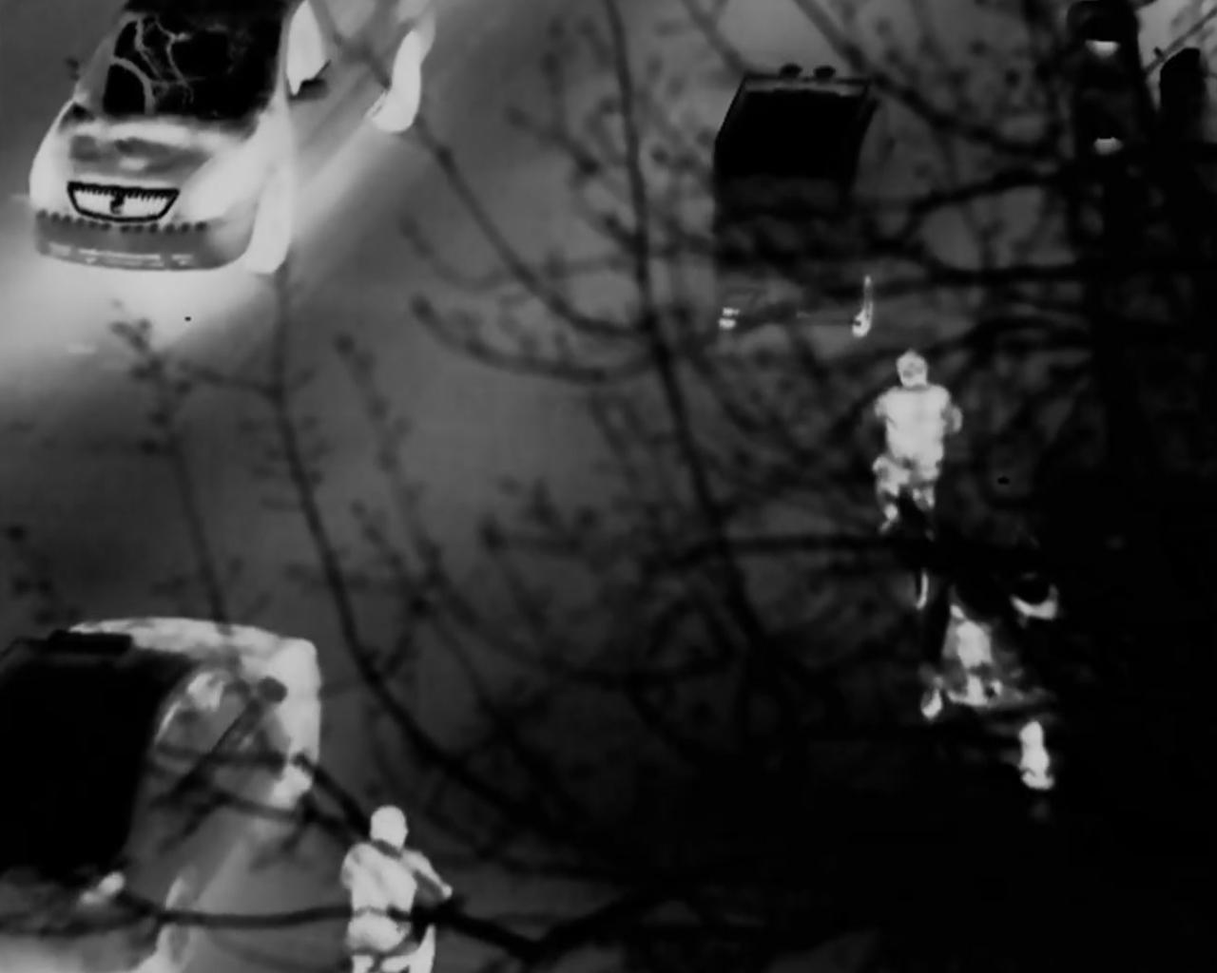person: (869, 351, 961, 546), (346, 803, 448, 967)
